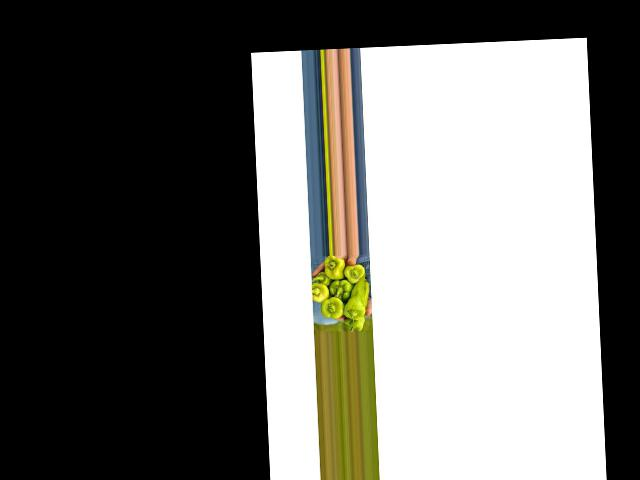bell_pepper: (321, 255, 344, 281)
